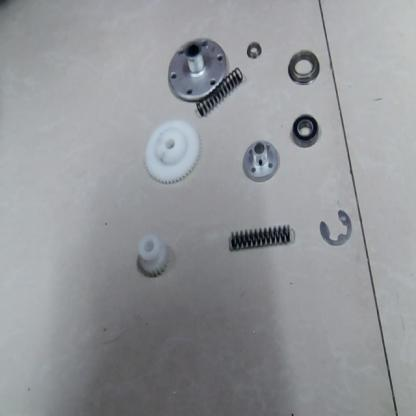FOD: (167, 34, 226, 104), (144, 123, 199, 190), (195, 66, 244, 120), (223, 223, 293, 257), (130, 234, 170, 283), (240, 134, 274, 183), (315, 208, 353, 248), (287, 46, 319, 90), (290, 110, 320, 148), (245, 40, 262, 58)
